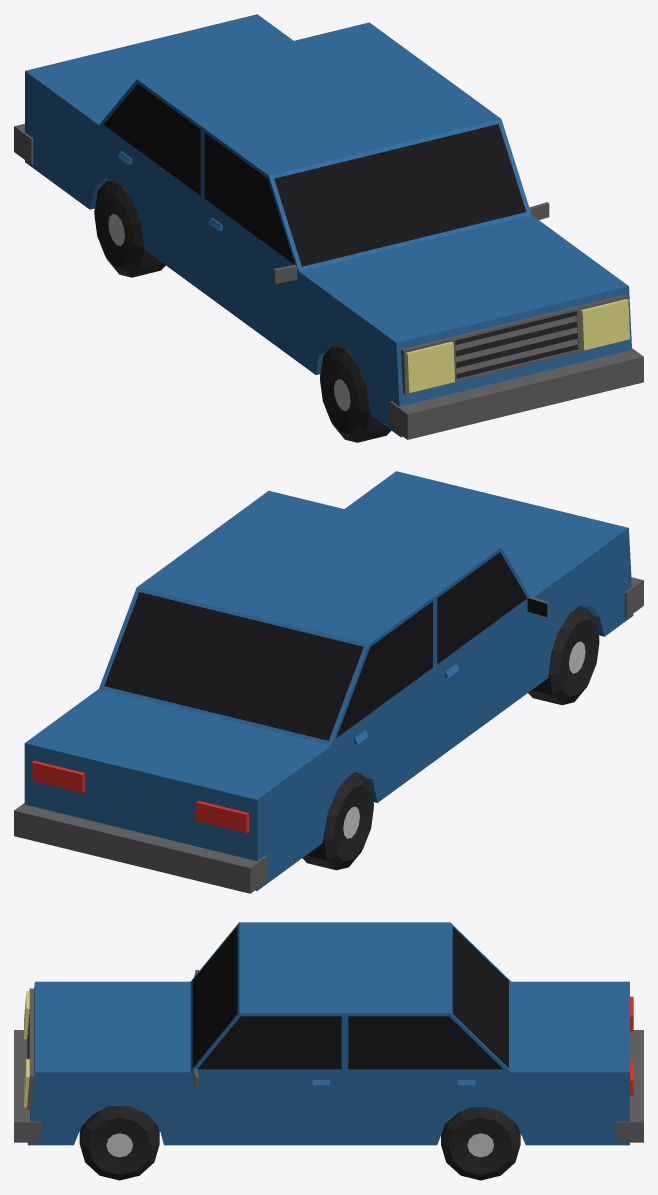
Rendered from Car_01.fbx.
The picture shows the model from 3 angles, top to bottom: view 1: azimuth 30°, elevation 25°; view 2: azimuth 150°, elevation 25°; view 3: azimuth 270°, elevation 25°; orthographic projection. The views are drawn at different scales.
Visible parts, largest first — view 1: Car_01; view 2: Car_01; view 3: Car_01.
Part boxes in pixels (box(x1,y1,x2,y2)): Car_01: box(14, 14, 643, 442); Car_01: box(14, 471, 643, 893); Car_01: box(14, 922, 643, 1180).
Size of the model in its own units: 2.58 by 1.88 by 6.41.
